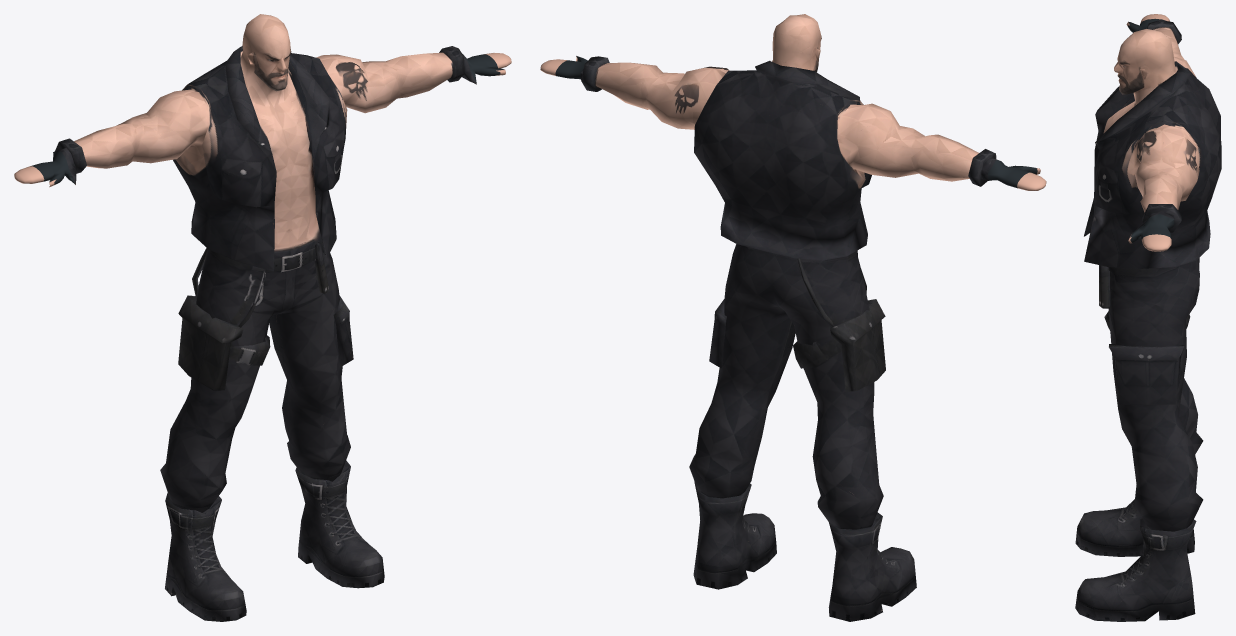
File: thug_white_male_brute_mittens.glb
The picture shows the model from 3 angles, left to right: view 1: azimuth 30°, elevation 25°; view 2: azimuth 150°, elevation 25°; view 3: azimuth 270°, elevation 25°; orthographic projection. The views are drawn at different scales.
Visible parts, largest first — view 1: Hostile_Brute; view 2: Hostile_Brute; view 3: Hostile_Brute.
Part boxes in pixels (x1=…): Hostile_Brute: x1=14, y1=14, x2=511, y2=621; Hostile_Brute: x1=540, y1=14, x2=1046, y2=621; Hostile_Brute: x1=1075, y1=14, x2=1221, y2=621.
Size of the model in its own units: 2.12 by 2.3 by 0.5593.
Materials: 3 (1 with a texture image).
